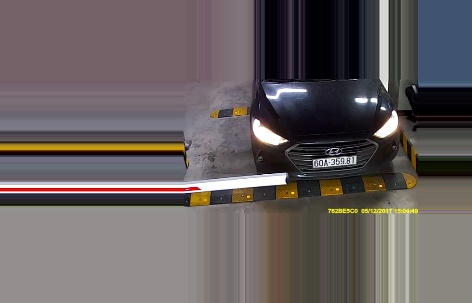plate: (312, 153, 358, 168)
